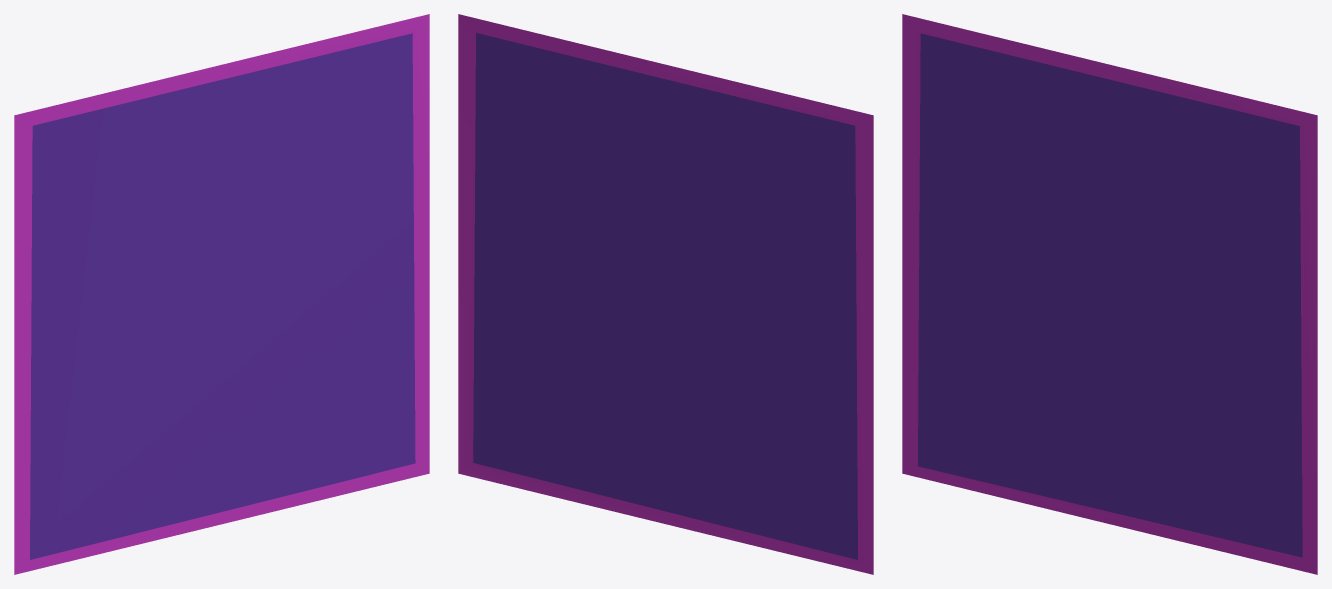
The picture shows the model from 3 angles, left to right: view 1: azimuth 30°, elevation 25°; view 2: azimuth 150°, elevation 25°; view 3: azimuth 330°, elevation 25°; orthographic projection.
Parts seen in each view (by area): view 1: bg2; view 2: bg2; view 3: bg2.
Part boxes in pixels (left/top/right/bottom): bg2: left=14, top=14, right=429, bottom=574; bg2: left=458, top=14, right=873, bottom=574; bg2: left=902, top=14, right=1317, bottom=574.
Size of the model in its own units: 0.3877 by 0.4097 by 0.000688.
